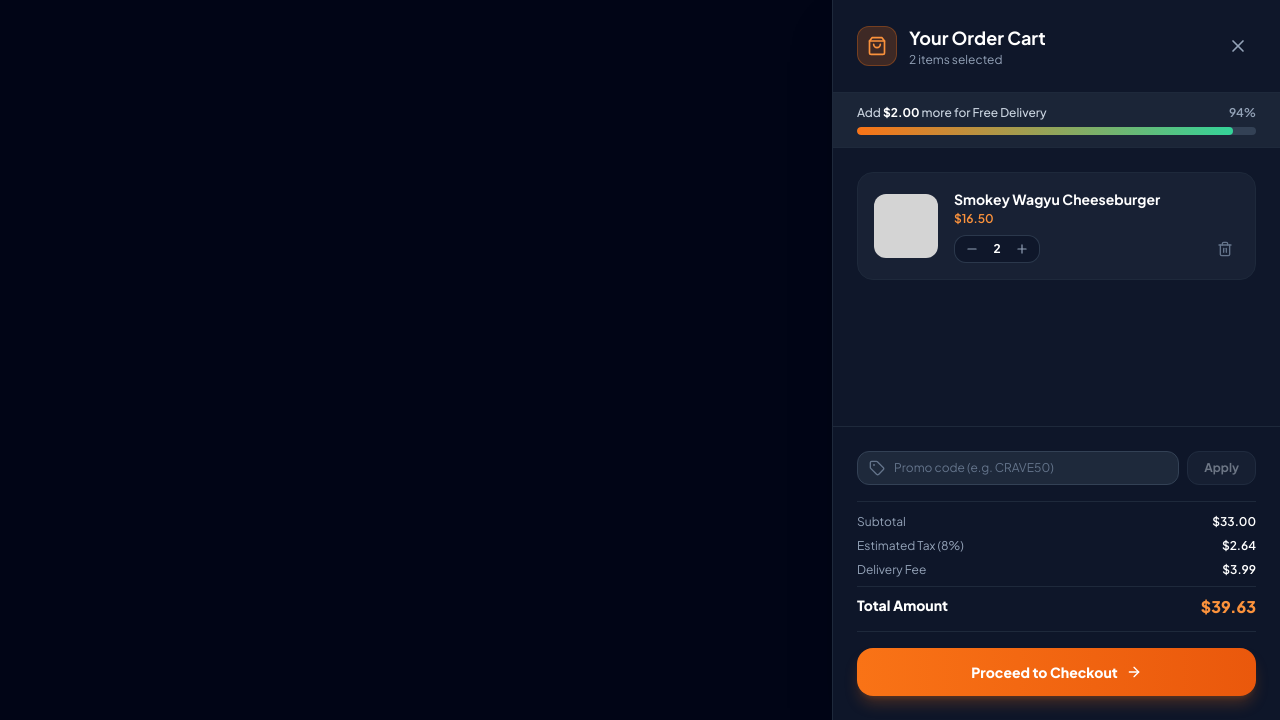
CartDrawer Component (TDD) › renders cart item details, calculates subtotal correctly, and allows quantity modification
Check: the heading "Smokey Wagyu Cheeseburger" is shown, box x1=954 y1=190 x2=1160 y2=208
Check: the text "$33.00" is shown, box x1=1212 y1=514 x2=1256 y2=530
Click the button with id "increment-m2". click: [1022, 249]
box: x1=1013 y1=240 x2=1031 y2=258
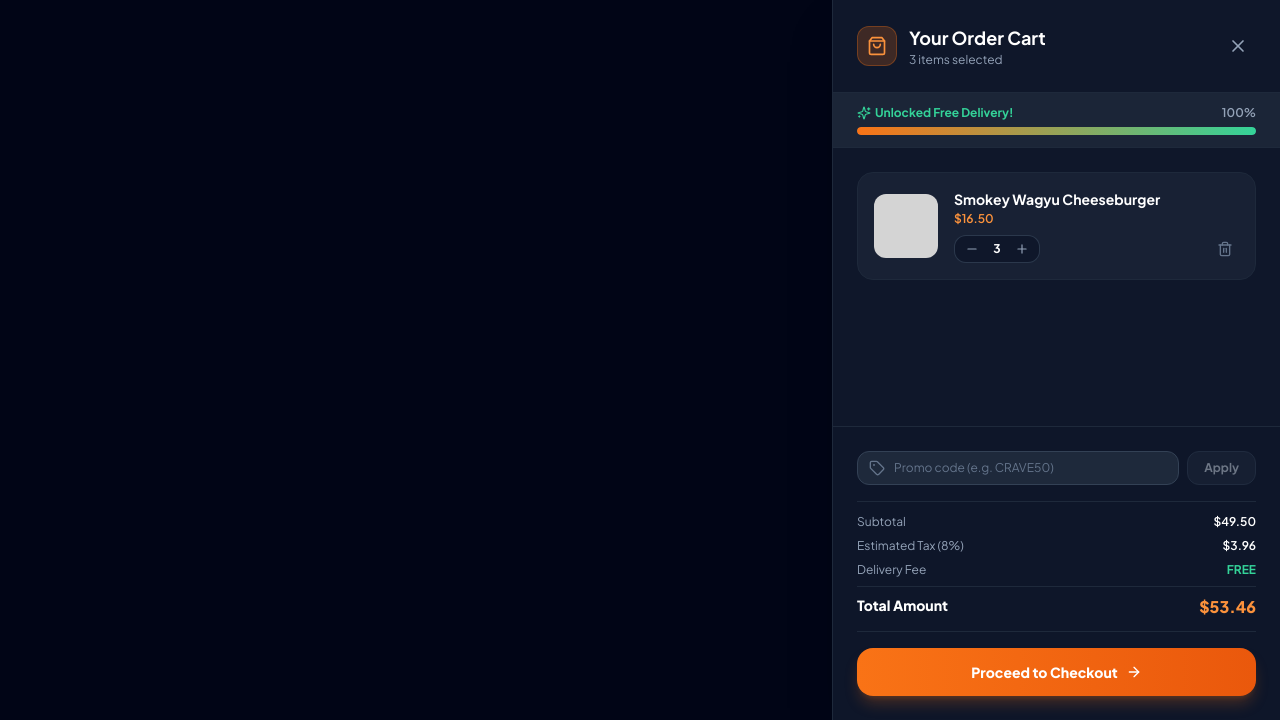
Check: the text "$49.50" is shown, box x1=1214 y1=514 x2=1256 y2=530
